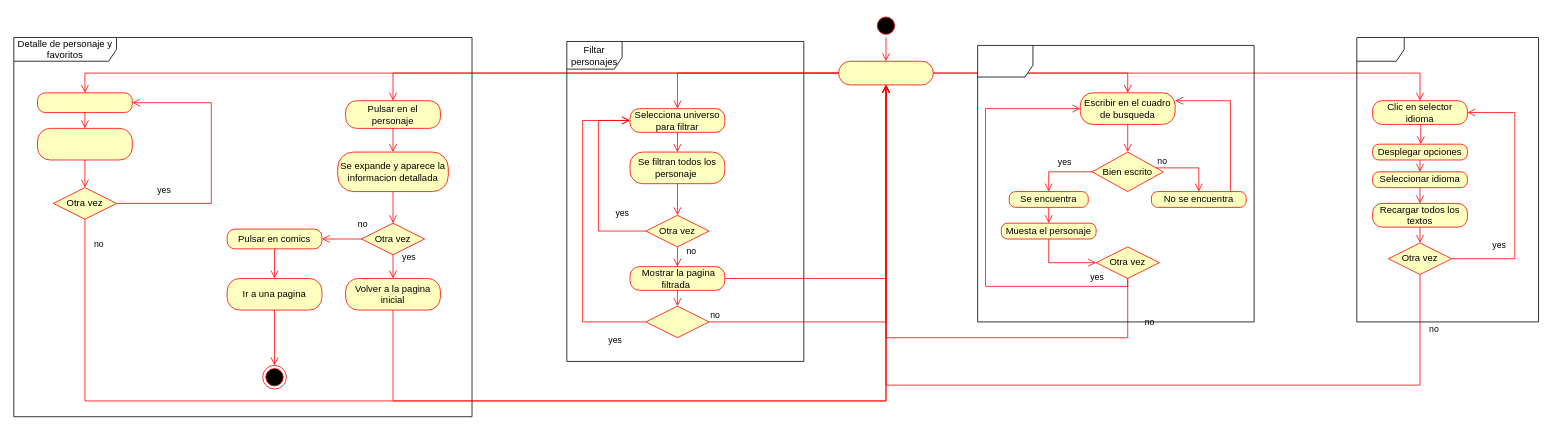
The diagram is 1552 pixels wide and 431 high, and some of its shapes have lost their labels. Here are the shapes that lost their labels. From the top down, the centre of each, then its label:
[885,72]: Mostrar pagina inicial
[84,102]: Pulsar en favorito
[84,144]: Se guarda en favoritos
[1115,183]: Buscar personaje
[1447,179]: Cambio idioma
[677,321]: Sigue
